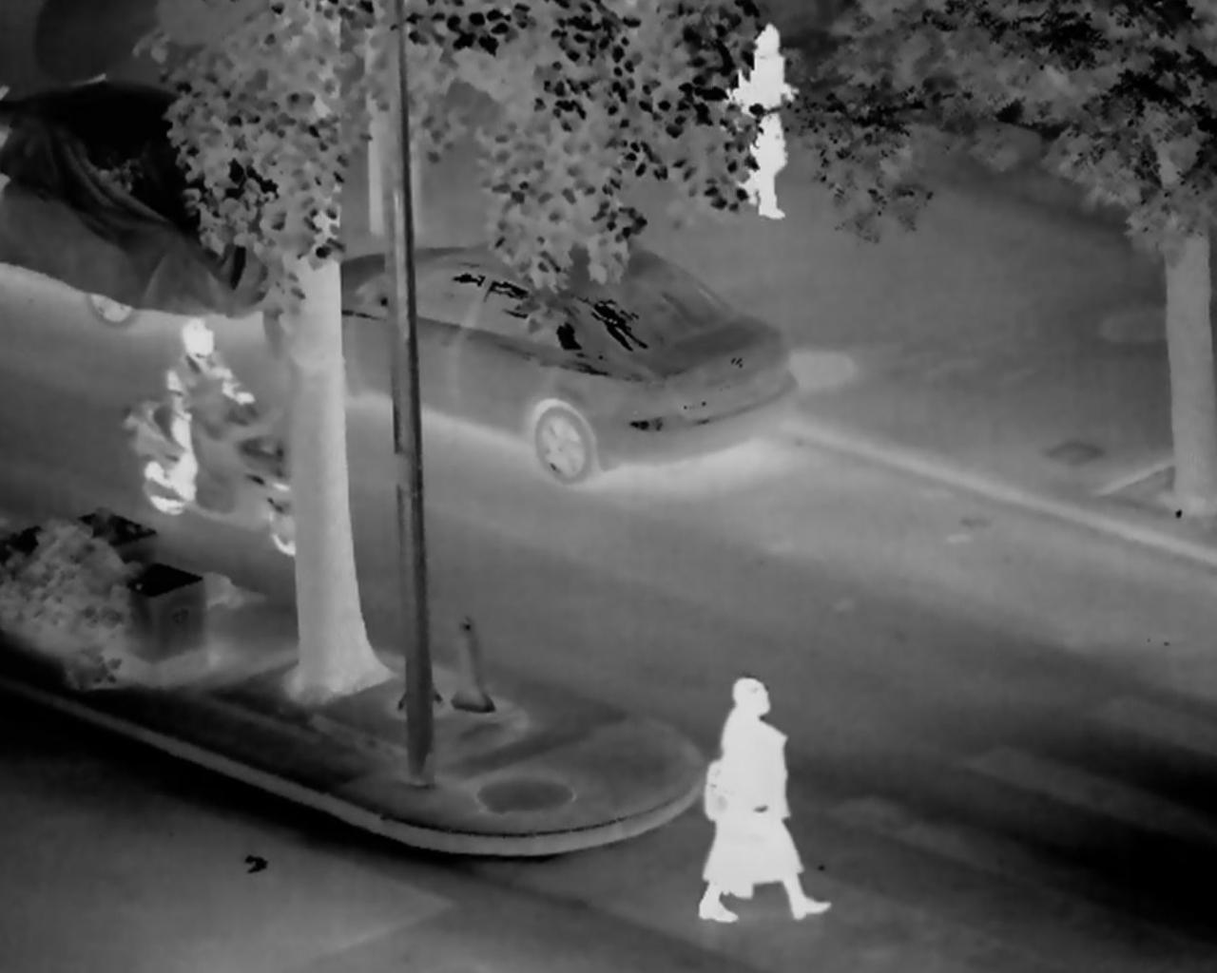person: (671, 661, 830, 928), (149, 315, 274, 529), (712, 16, 811, 223)
